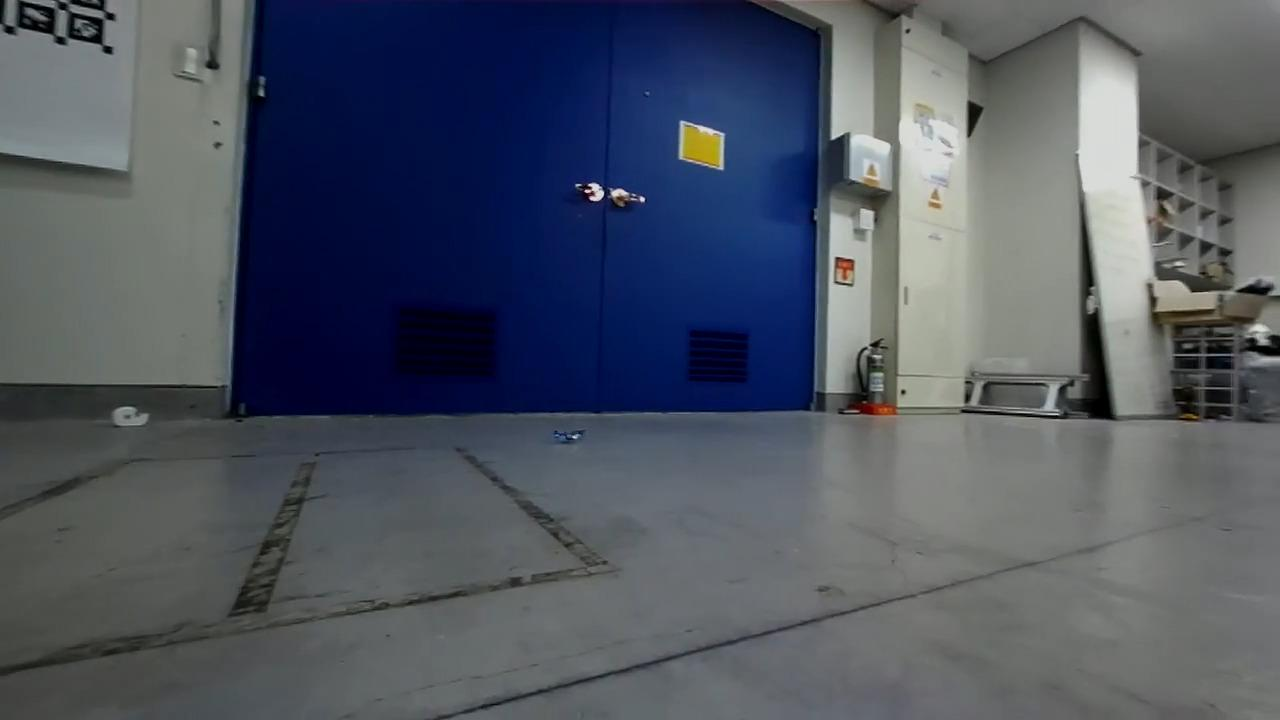crazyflie: (546, 423, 592, 450)
